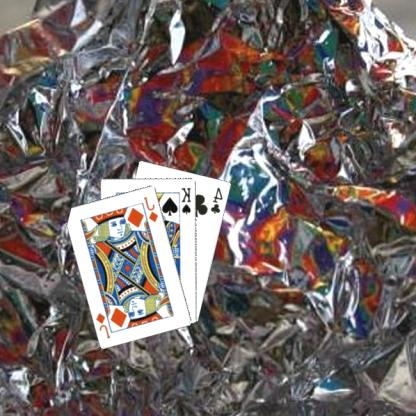4C: (210, 184, 226, 215)
JD: (95, 310, 114, 340), (143, 194, 161, 223)
KS: (181, 184, 195, 216)
